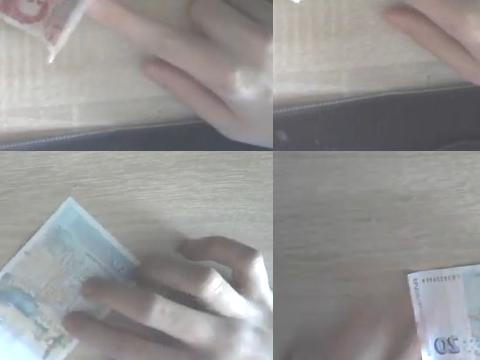20leva: (0, 196, 139, 360)
